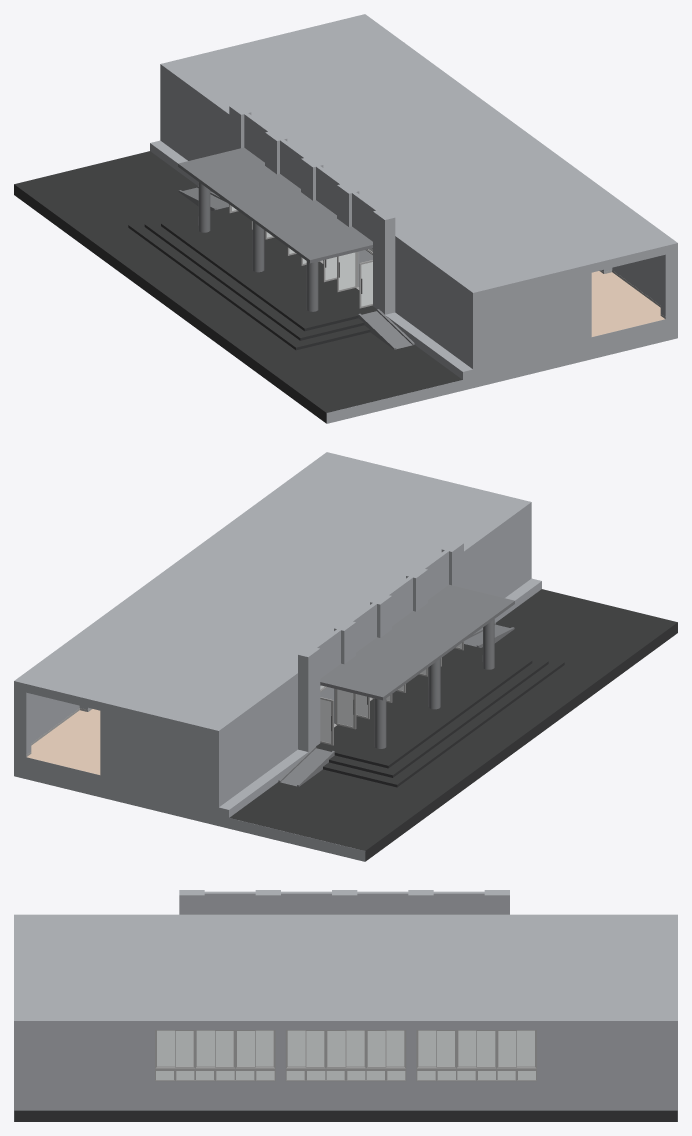
File: entrance.glb
The picture shows the model from 3 angles, top to bottom: view 1: azimuth 30°, elevation 25°; view 2: azimuth 150°, elevation 25°; view 3: azimuth 270°, elevation 25°; orthographic projection. The views are drawn at different scales.
Parts seen in each view (by area): view 1: オブジェクト_59, オブジェクト_55, オブジェクト_54, オブジェクト_60, オブジェクト_64, オブジェクト_58, オブジェクト_57, オブジェクト_93, オブジェクト_277, オブジェクト_1, オブジェクト_63, オブジェクト_162 (+8 smaller); view 2: オブジェクト_59, オブジェクト_55, オブジェクト_53, オブジェクト_60, オブジェクト_64, オブジェクト_57, オブジェクト_58, オブジェクト_93, オブジェクト_276, オブジェクト_1, オブジェクト_62, オブジェクト_165 (+8 smaller); view 3: オブジェクト_59, オブジェクト_1, オブジェクト_55, オブジェクト_219, オブジェクト_217, オブジェクト_218, オブジェクト_162, オブジェクト_164, オブジェクト_165, オブジェクト_163, オブジェクト_49, オブジェクト_25 (+21 smaller).
Boxes of the visible parts, x1,y1,x2,y2 form: オブジェクト_59: (160, 14, 677, 300); オブジェクト_55: (14, 151, 462, 423); オブジェクト_54: (326, 243, 677, 423); オブジェクト_60: (128, 207, 376, 350); オブジェクト_64: (178, 147, 372, 263); オブジェクト_58: (385, 245, 472, 379); オブジェクト_57: (150, 73, 229, 191); オブジェクト_93: (591, 271, 664, 336); オブジェクト_277: (373, 209, 395, 314); オブジェクト_1: (602, 254, 665, 316); オブジェクト_63: (358, 309, 414, 349); オブジェクト_162: (352, 192, 379, 248); オブジェクト_59: (14, 452, 531, 738); オブジェクト_55: (229, 589, 677, 861); オブジェクト_53: (14, 681, 365, 861); オブジェクト_60: (316, 644, 564, 787); オブジェクト_64: (320, 584, 514, 700); オブジェクト_57: (219, 682, 307, 817); オブジェクト_58: (464, 511, 541, 628); オブジェクト_93: (27, 709, 100, 774); オブジェクト_276: (298, 646, 320, 751); オブジェクト_1: (26, 692, 89, 754); オブジェクト_62: (278, 746, 334, 786); オブジェクト_165: (313, 629, 340, 685); オブジェクト_59: (14, 914, 677, 1029); オブジェクト_1: (14, 1030, 677, 1110); オブジェクト_55: (14, 1110, 677, 1121); オブジェクト_219: (285, 1030, 406, 1081); オブジェクト_217: (416, 1030, 536, 1081); オブジェクト_218: (155, 1030, 275, 1081); オブジェクト_162: (204, 891, 255, 914); オブジェクト_164: (357, 891, 408, 914); オブジェクト_165: (433, 891, 484, 914); オブジェクト_163: (281, 891, 331, 914); オブジェクト_49: (346, 1030, 364, 1066); オブジェクト_25: (458, 1030, 476, 1066).
Size of the model in its own units: 17.06 by 5.27 by 26.32.
